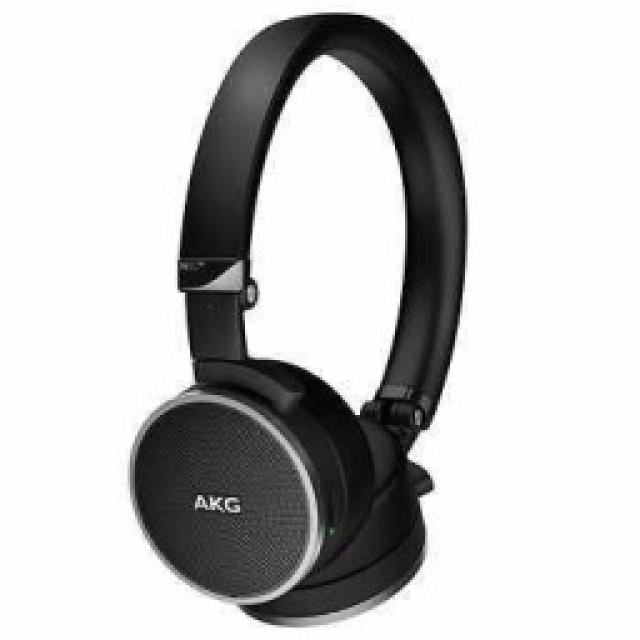headphones: (125, 10, 467, 625)
